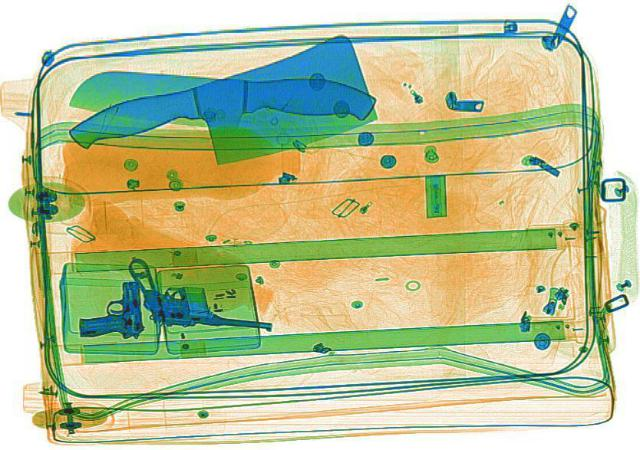Gun: (94, 253, 282, 352), (66, 276, 148, 343)
Knife: (42, 30, 408, 197), (66, 59, 386, 140)
